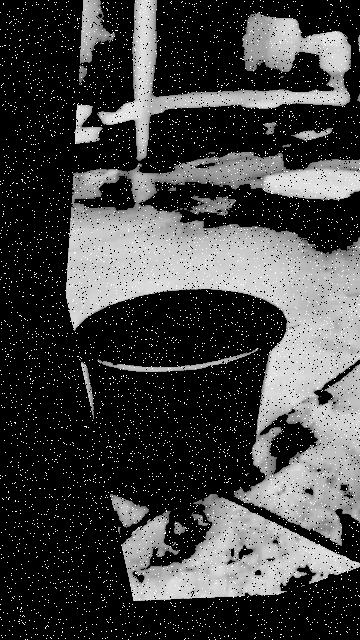pot: (74, 290, 284, 501)
